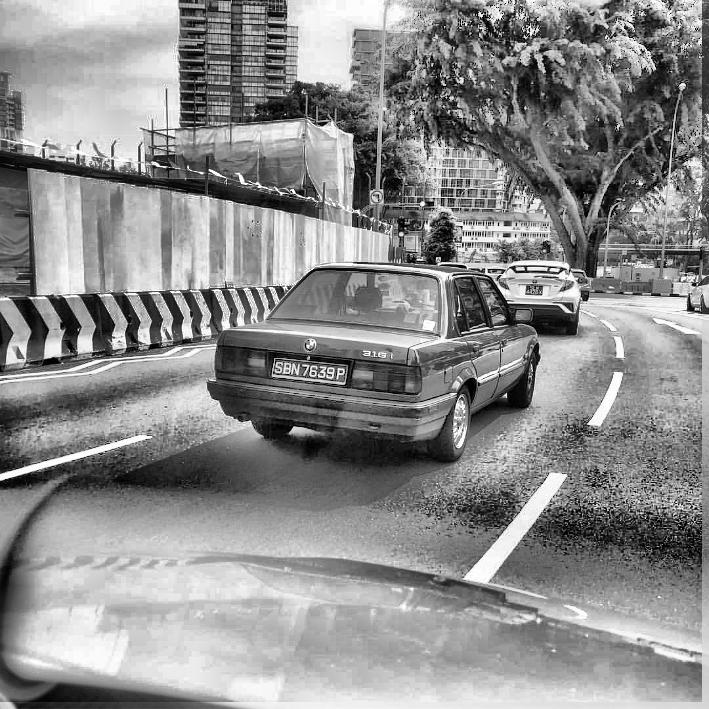License-Plates: (273, 359, 347, 382), (525, 284, 541, 294)
